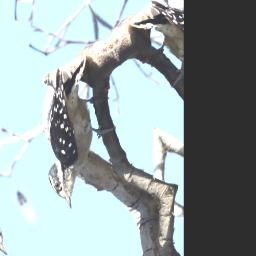Woodpecker: (6, 49, 141, 216)
